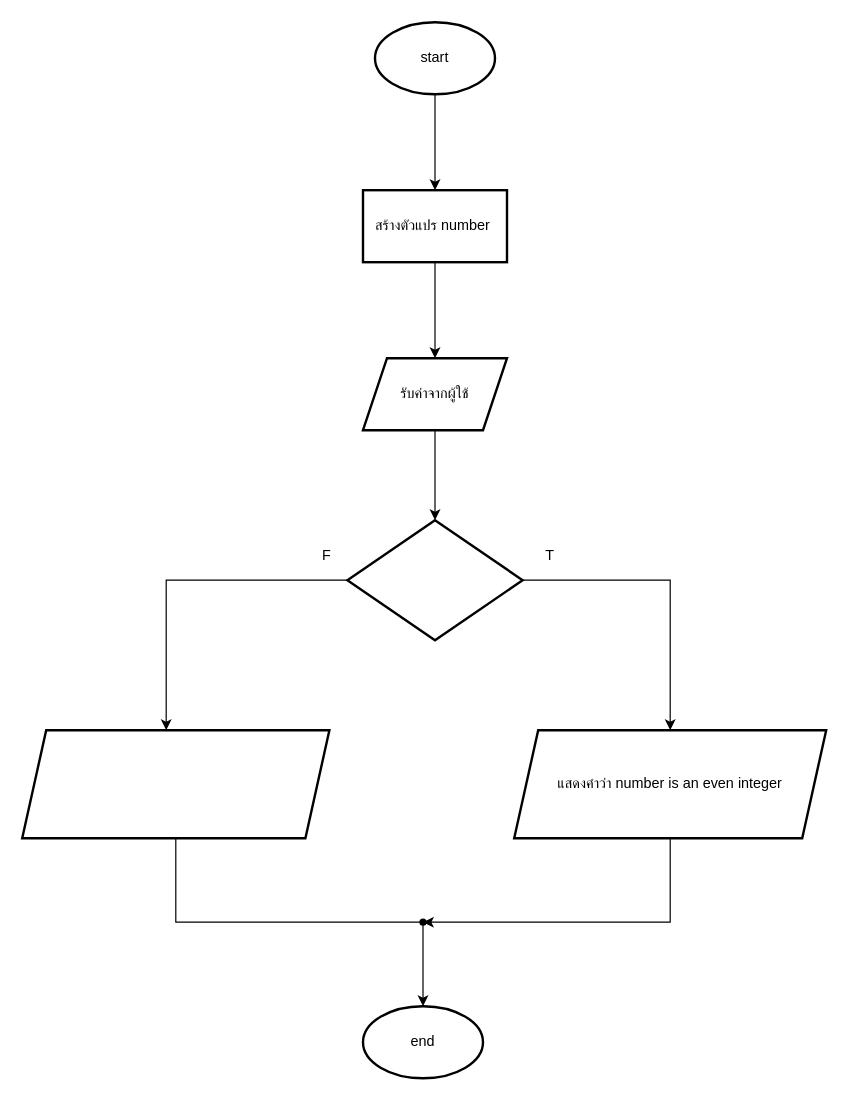
Some shapes in this 847 by 1099 pixel diagram are drawn without their labels. Here are the shapes that lost their labels. From the top down, the centre of each, then its label:
point 434,579: number % 2 = 0 ?
point 175,783: แสดงคำว่า number is an odd integer
